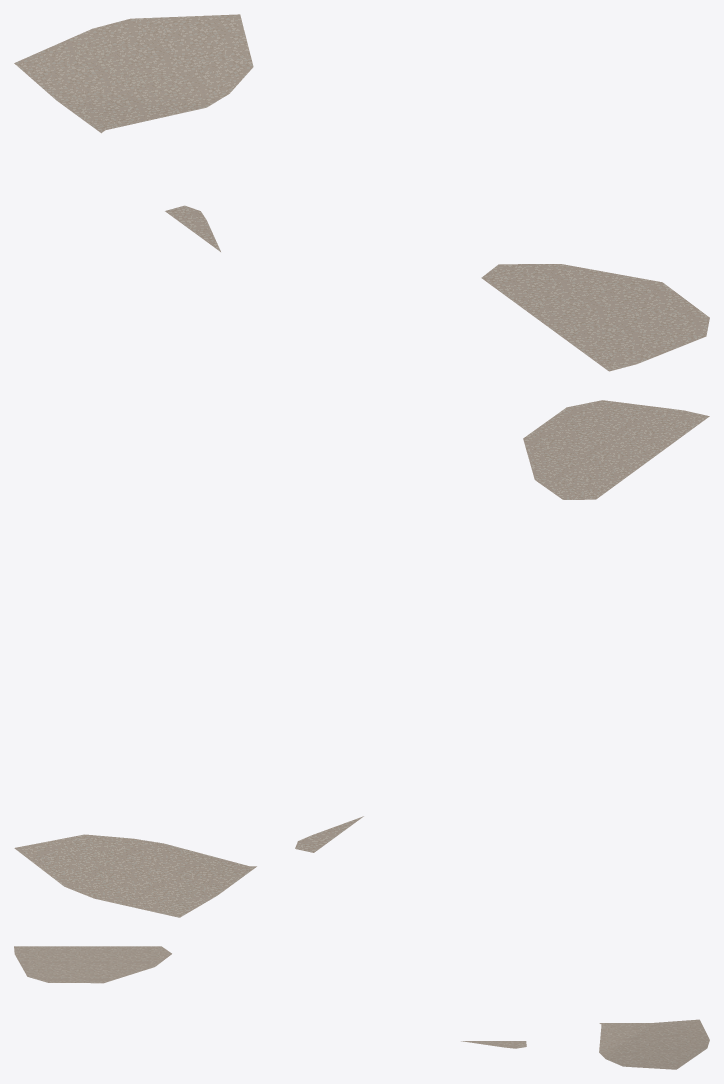
The model's file is kd_stage_13612f_2_5_bounded.glb.
3 views of the same model, one above another, from view 1: azimuth 30°, elevation 25°; view 2: azimuth 150°, elevation 25°; view 3: azimuth 270°, elevation 25° (orthographic). The views are drawn at different scales.
Visible parts, largest first — view 1: kd_stage_13612f_2_5_bounded; view 2: kd_stage_13612f_2_5_bounded; view 3: kd_stage_13612f_2_5_bounded.
Boxes of the visible parts, x1,y1,x2,y2 form: kd_stage_13612f_2_5_bounded: (14,14,709,371); kd_stage_13612f_2_5_bounded: (14,400,709,917); kd_stage_13612f_2_5_bounded: (14,946,709,1069).
Size of the model in its own units: 13.74 by 10.5 by 69.75.
1 material, 1 textured.
